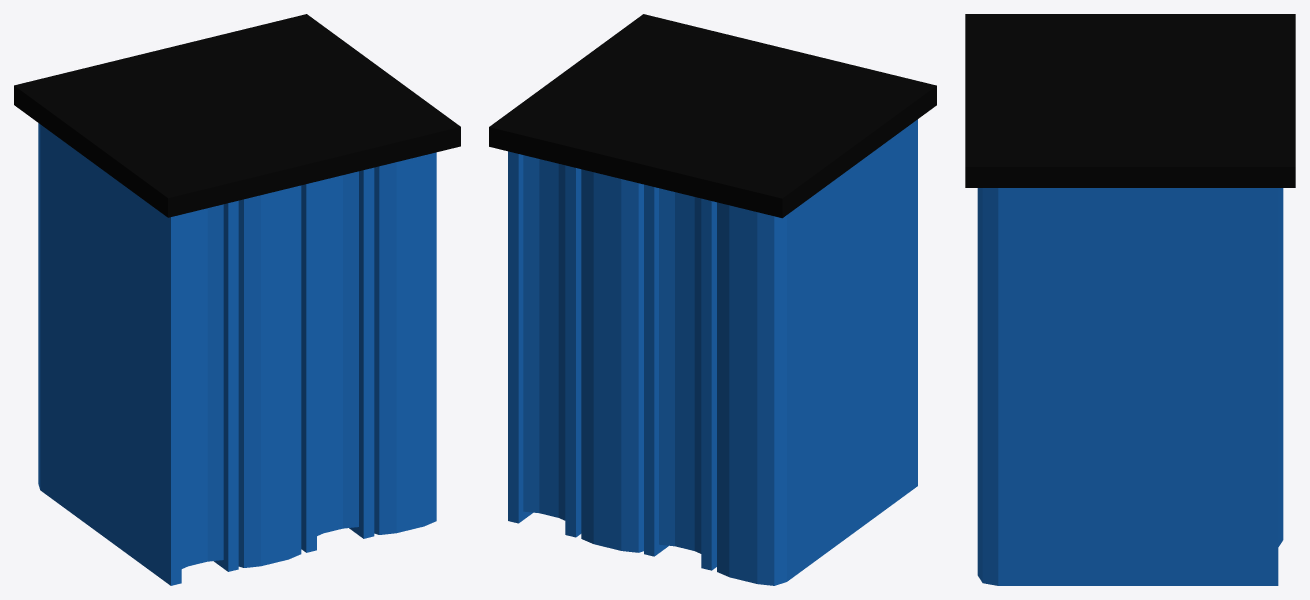
File: SM_table_1.fbx
3 renders of one model, left to right at view 1: azimuth 30°, elevation 25°; view 2: azimuth 150°, elevation 25°; view 3: azimuth 270°, elevation 25°, orthographic. The views are drawn at different scales.
Visible parts, largest first — view 1: Cube_90; view 2: Cube_90; view 3: Cube_90.
Boxes of the visible parts, <box> form: Cube_90: <box>14,14,460,585</box>; Cube_90: <box>489,14,936,585</box>; Cube_90: <box>965,14,1295,585</box>.
Size of the model in its own units: 70 by 90.53 by 63.82.
